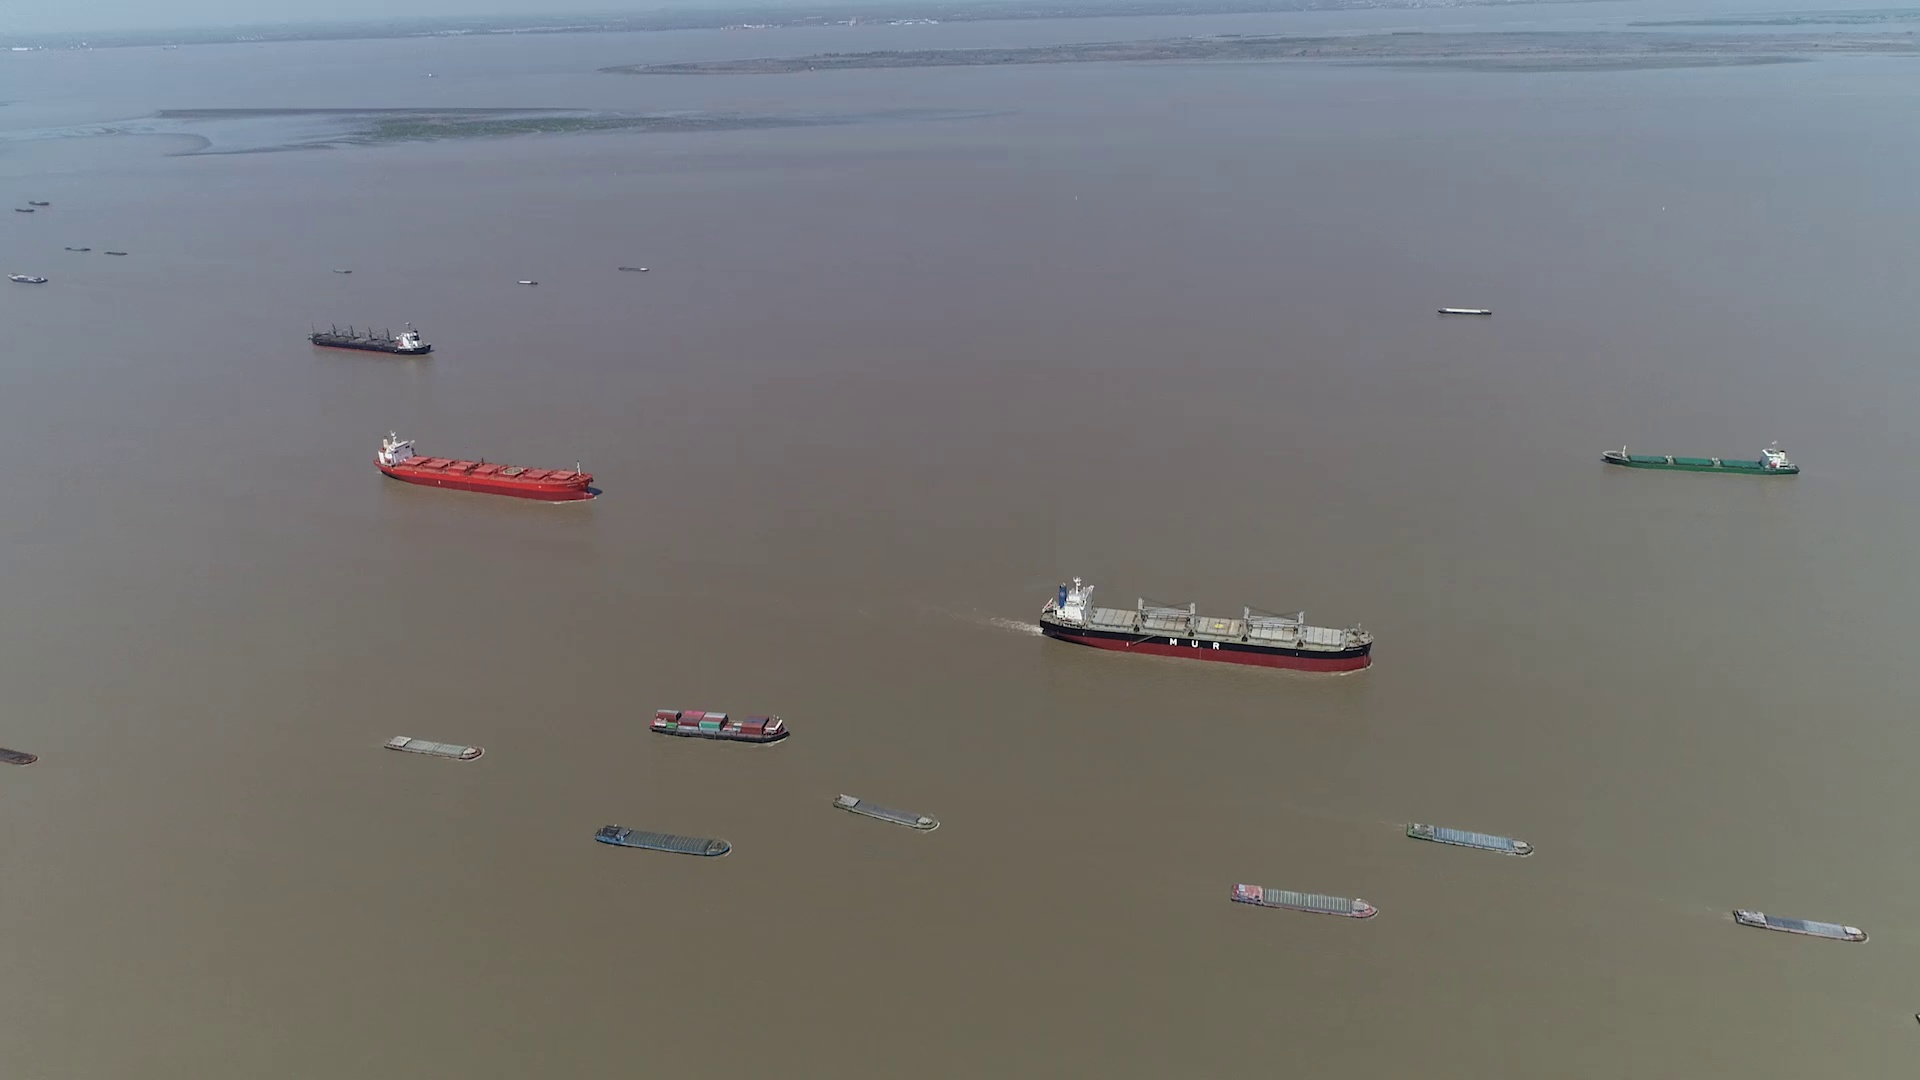ship: (1040, 578, 1373, 673), (375, 434, 595, 500), (1600, 443, 1797, 476), (1232, 881, 1377, 918), (649, 708, 790, 742), (1731, 907, 1867, 942), (593, 825, 732, 858), (1407, 822, 1534, 856), (310, 320, 431, 355), (833, 794, 939, 832), (385, 735, 483, 760), (0, 740, 36, 767), (1439, 307, 1493, 316), (11, 272, 49, 282)
